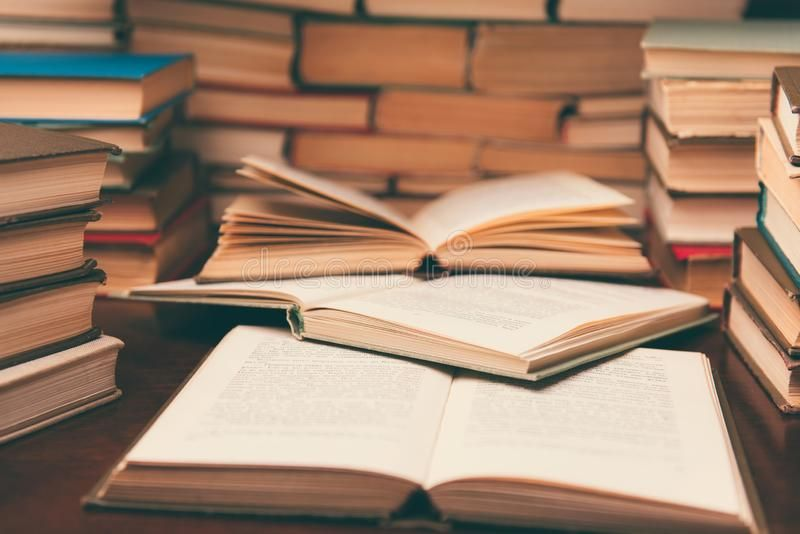Open Book: (146, 332, 759, 526), (137, 274, 726, 377), (196, 151, 659, 276)
